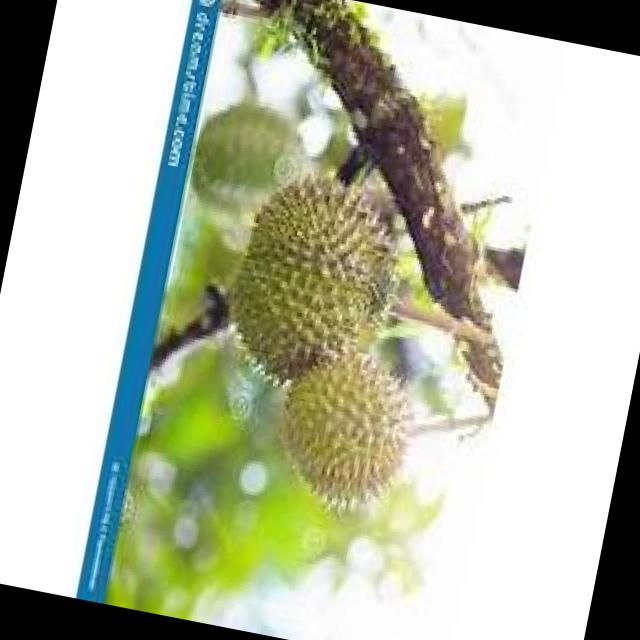fruit: (194, 144, 443, 416), (246, 318, 454, 536)
